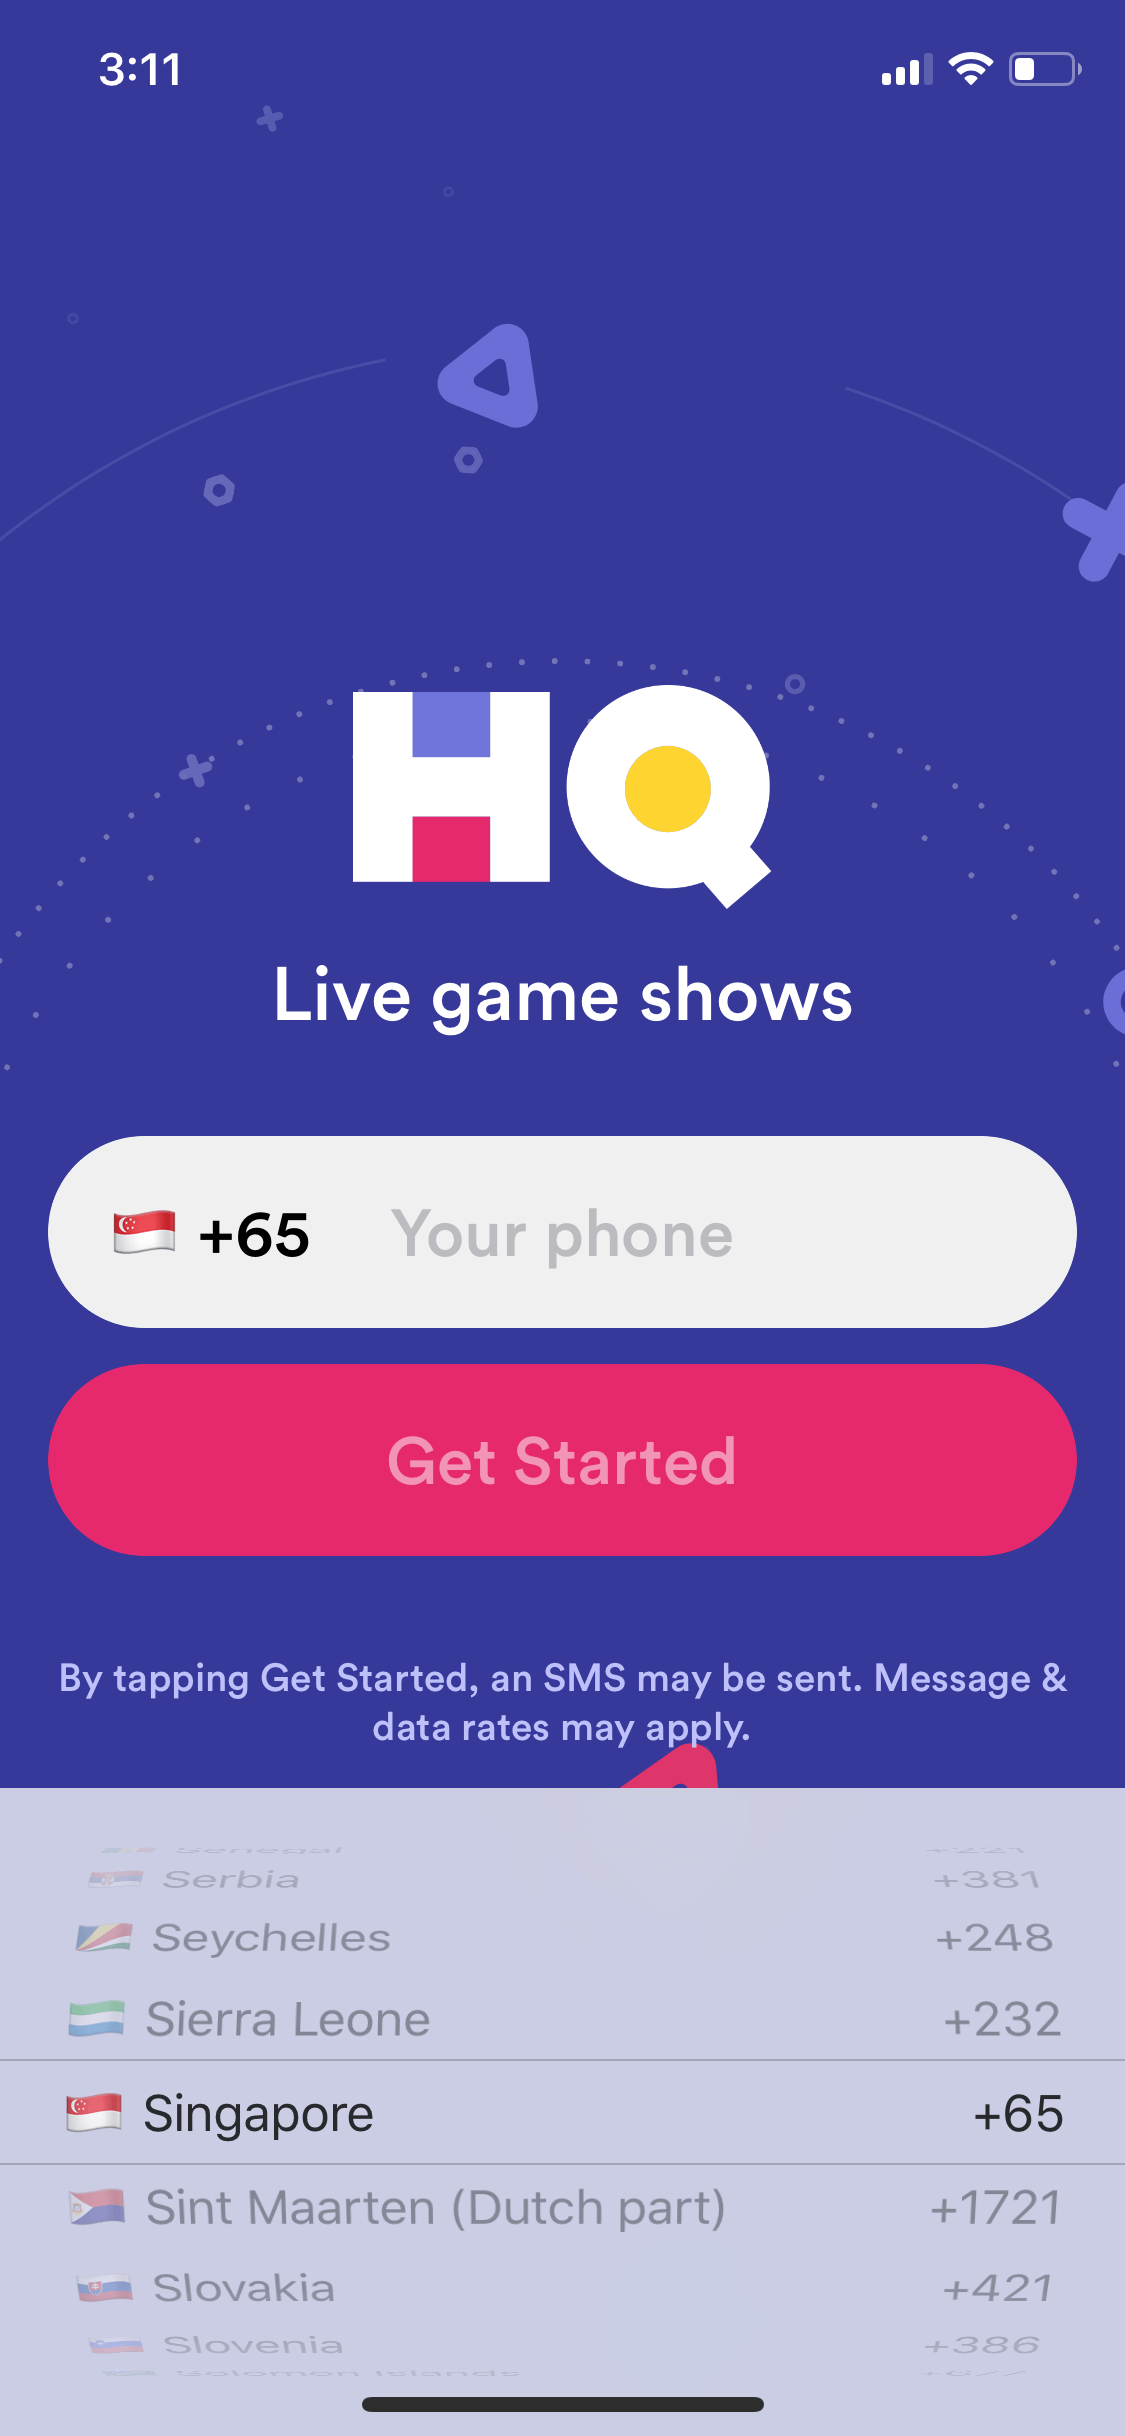Buttons: (40, 1352, 1083, 1558)
Pickers: (3, 1785, 1125, 2388)
Text Fields: (37, 1122, 1088, 1341)
